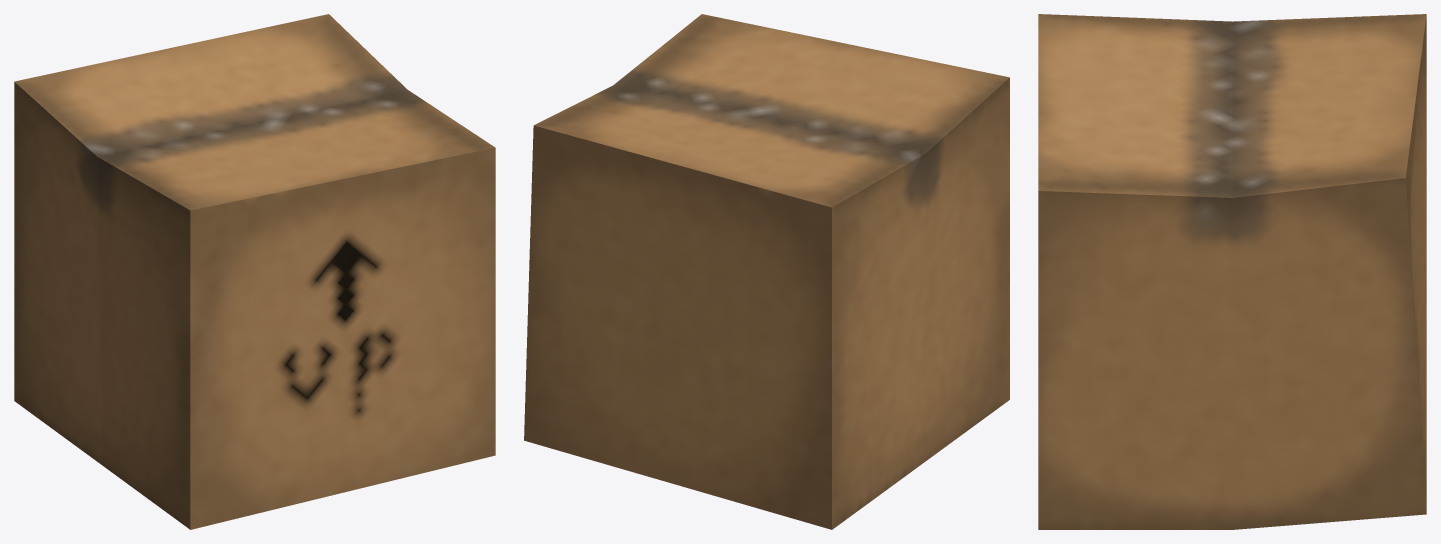
The model's file is CardboardBox old.fbx.
3 renders of one model, left to right at view 1: azimuth 30°, elevation 25°; view 2: azimuth 150°, elevation 25°; view 3: azimuth 270°, elevation 25°, orthographic. The views are drawn at different scales.
Visible parts, largest first — view 1: Cardoboard-Box; view 2: Cardoboard-Box; view 3: Cardoboard-Box.
Boxes of the visible parts, x1,y1,x2,y2 form: Cardoboard-Box: [14, 14, 495, 529]; Cardoboard-Box: [524, 14, 1009, 529]; Cardoboard-Box: [1038, 14, 1426, 529].
Size of the model in its own units: 50.95 by 50.11 by 50.11.
